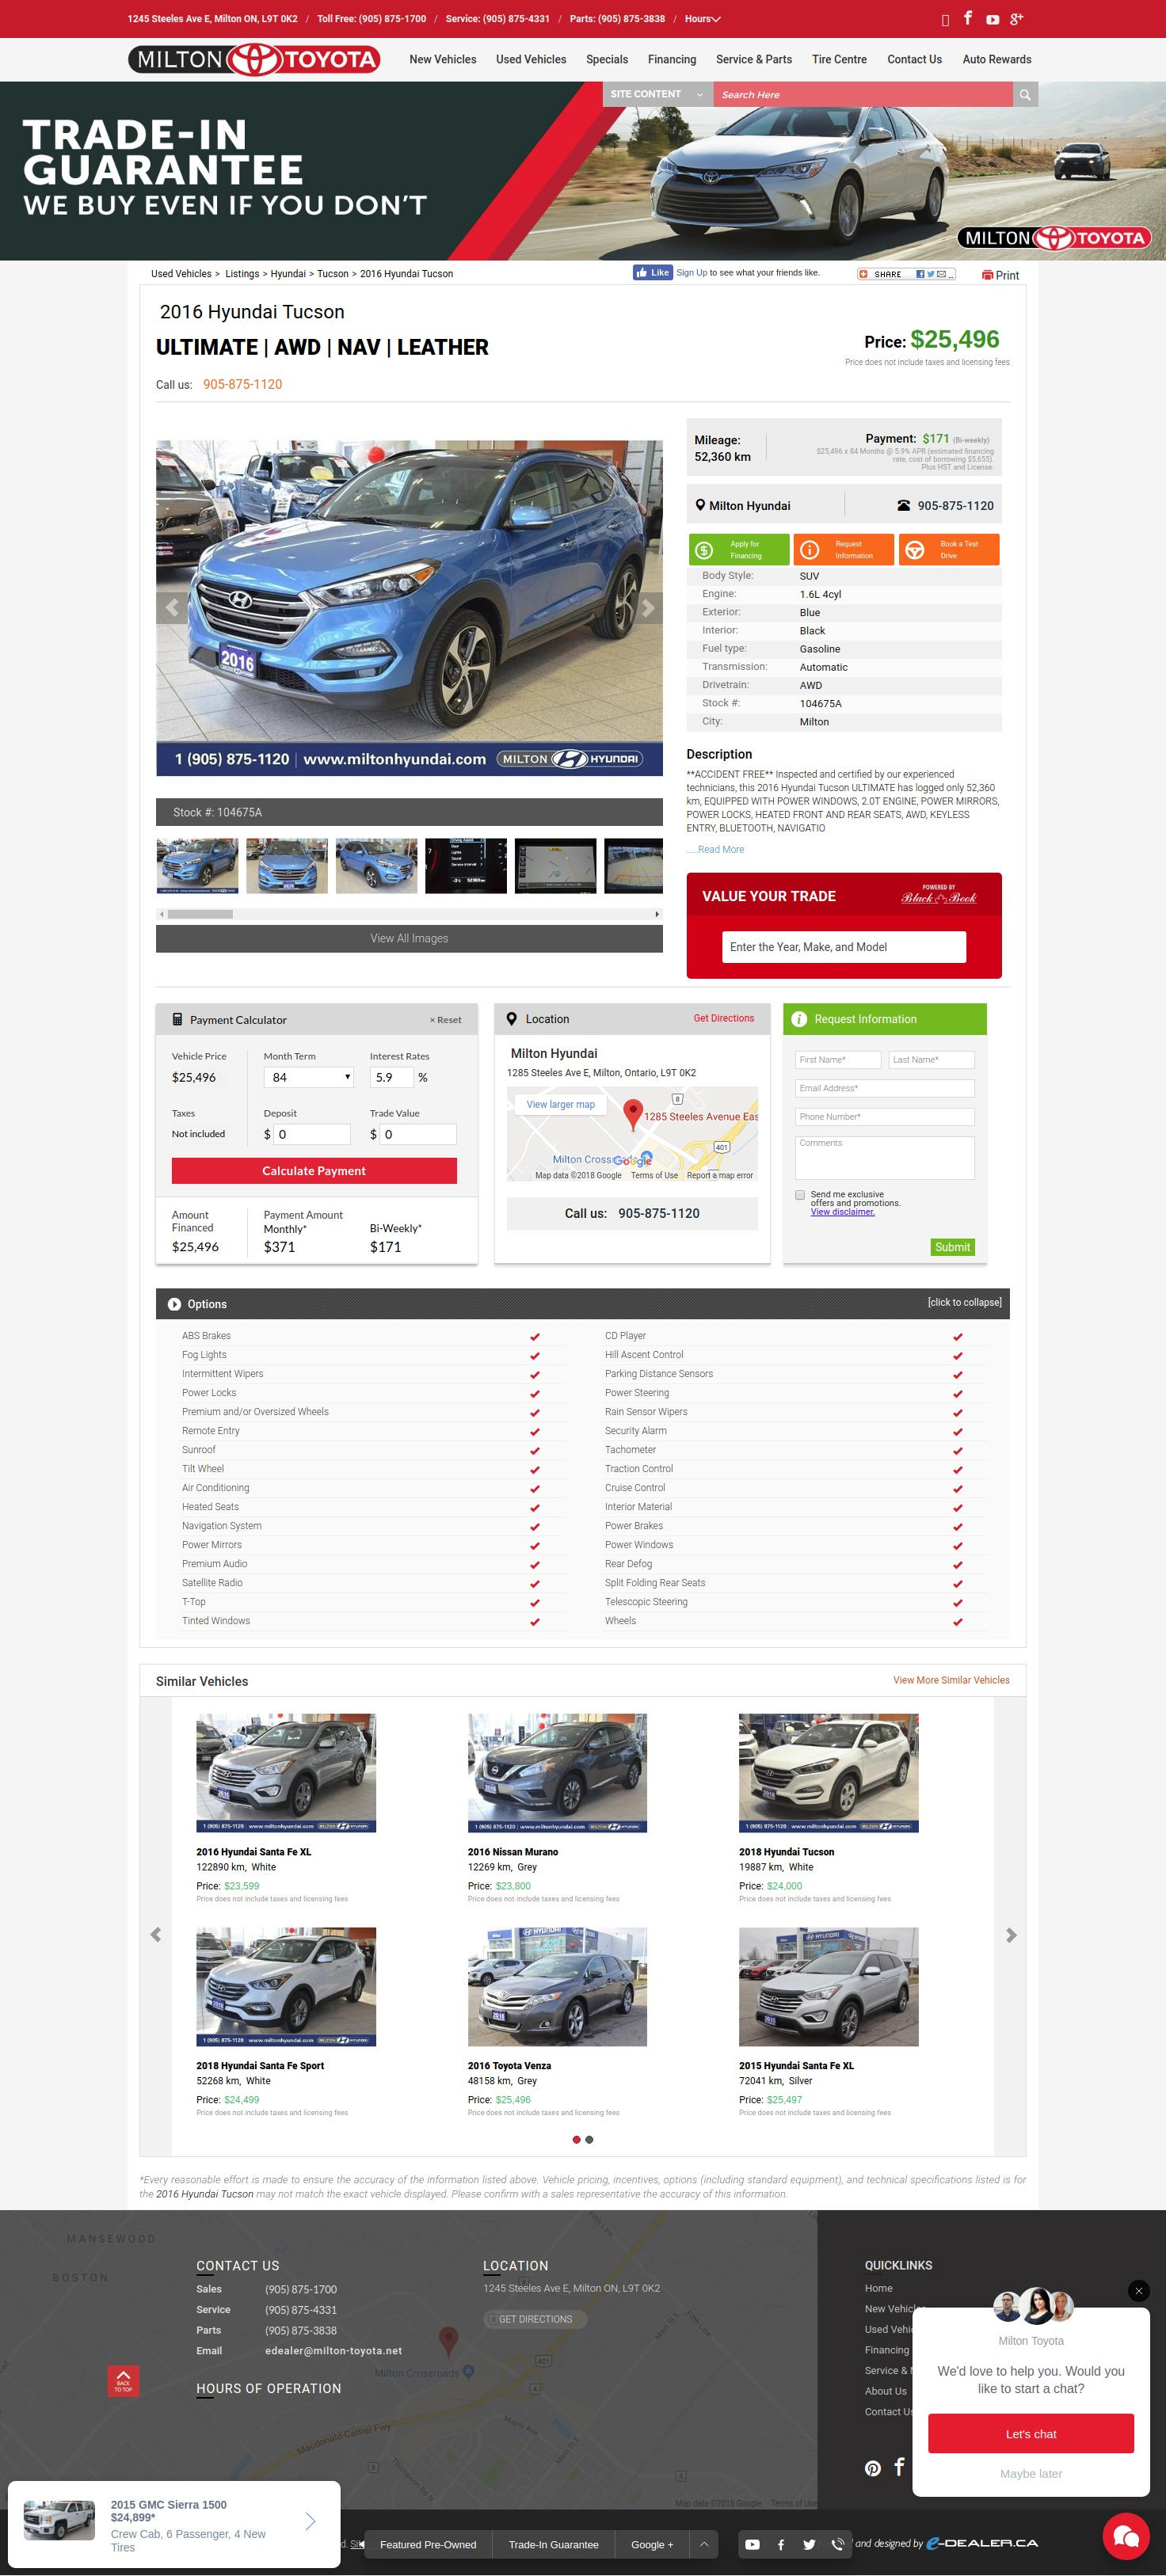car: (640, 598, 657, 619)
